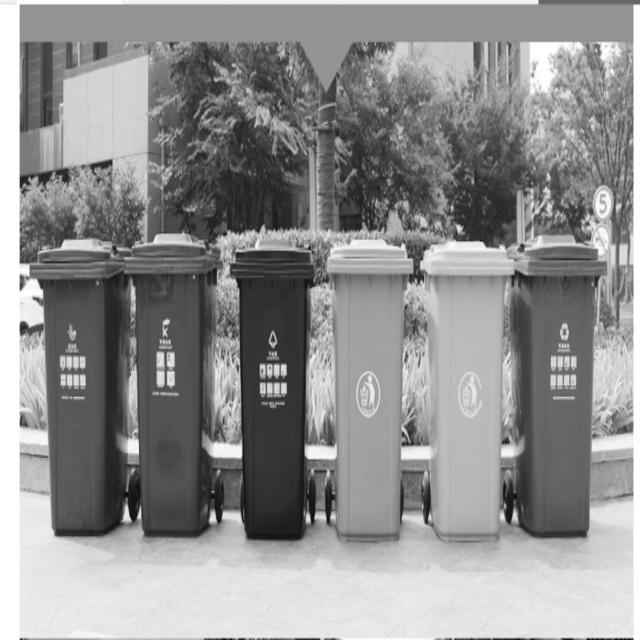ash bin: (32, 236, 139, 543), (508, 228, 606, 541), (126, 232, 225, 537), (320, 233, 412, 547), (421, 238, 514, 540), (230, 235, 318, 537)
car: (19, 262, 43, 335)
